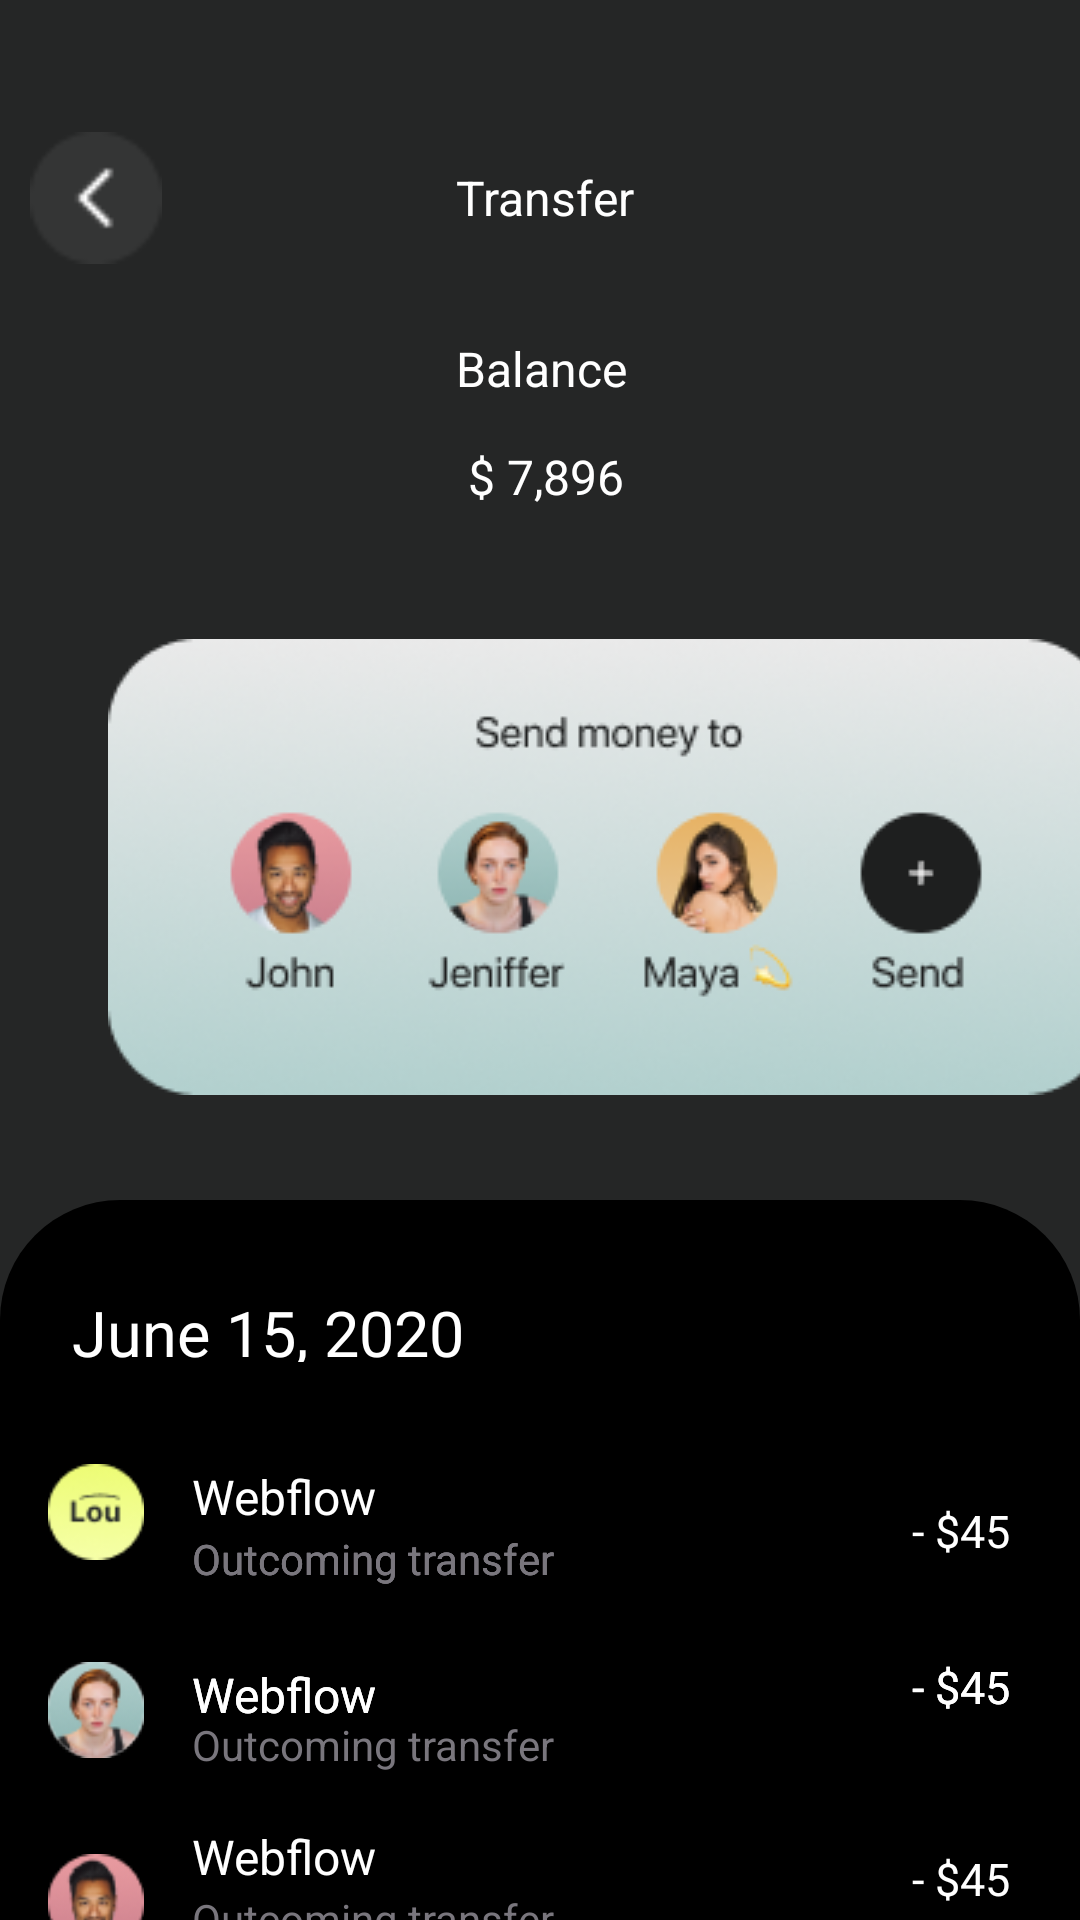

Screen size 1080*1920. Icon name, then its center in pixels as (x=x, y=y):
bbback: (x=96, y=198)
